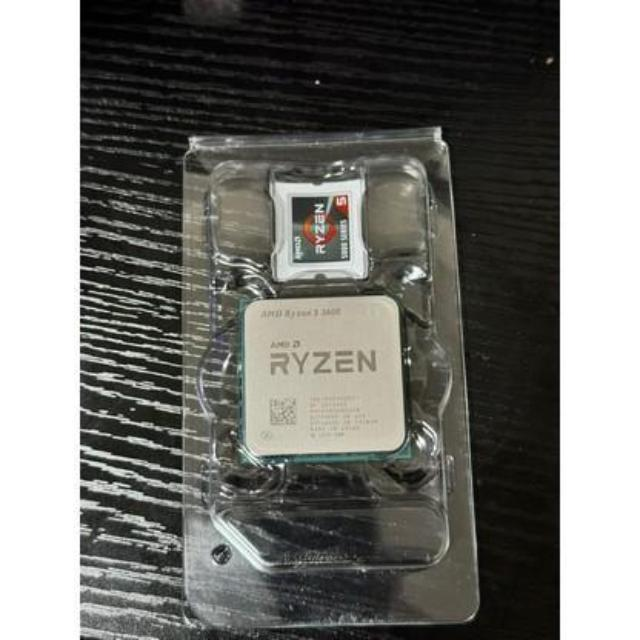CPU: (234, 293, 414, 461)
